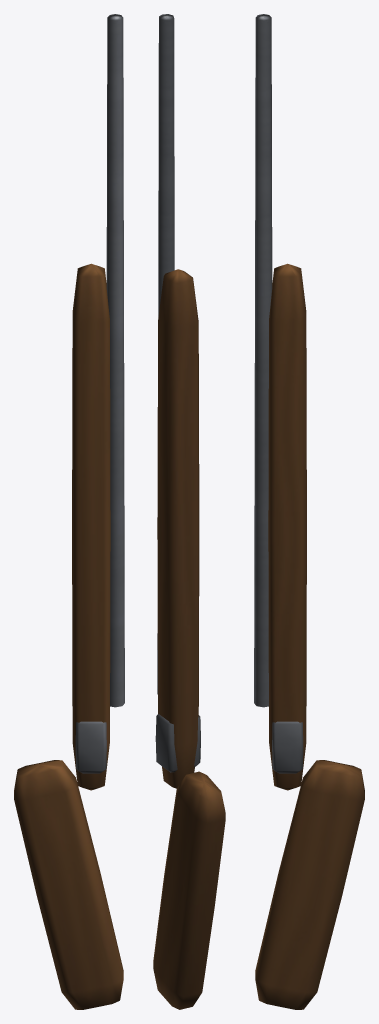
The model's file is mousquet.glb.
3 views of the same model, side by side, from view 1: azimuth 90°, elevation 25°; view 2: azimuth 210°, elevation 25°; view 3: azimuth 270°, elevation 25° (orthographic).
Visible parts, largest first — view 1: mousquet; view 2: mousquet; view 3: mousquet.
Boxes of the visible parts, <box> form: mousquet: <box>14,14,124,1009</box>; mousquet: <box>153,14,225,1009</box>; mousquet: <box>254,14,364,1009</box>.
Bounding box in the file's own units: 0.0488 × 1.36 × 0.1383.
1 material, 1 textured.
